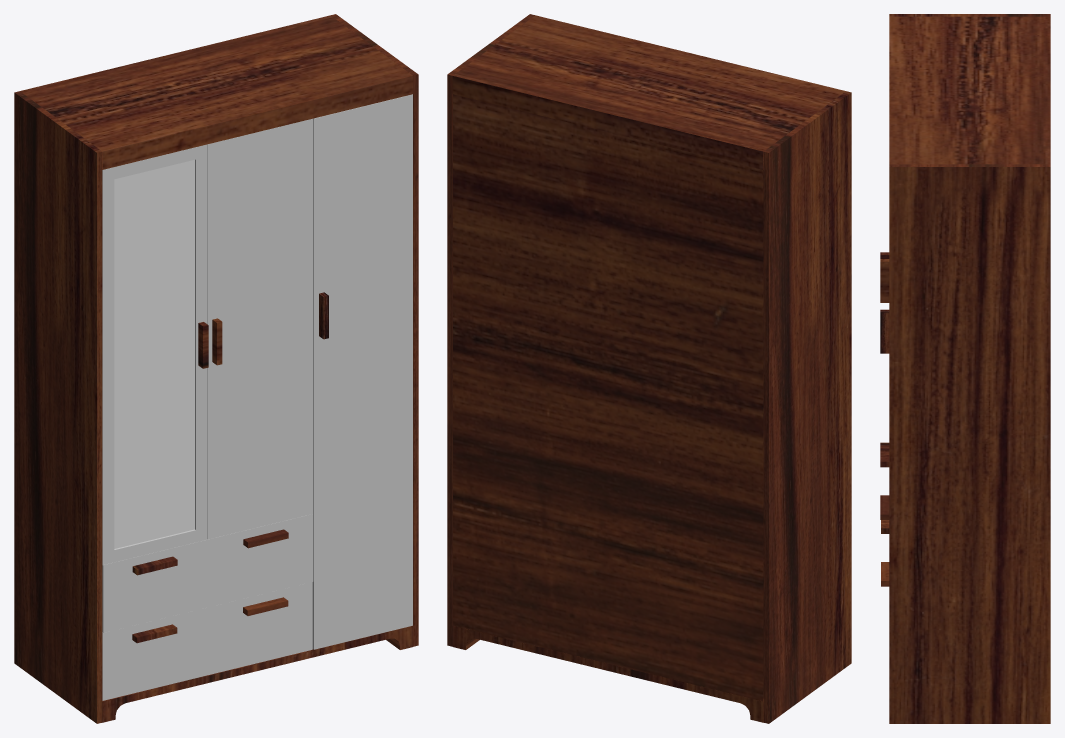
The model's file is wardorb_5.fbx.
The picture shows the model from 3 angles, left to right: view 1: azimuth 30°, elevation 25°; view 2: azimuth 150°, elevation 25°; view 3: azimuth 270°, elevation 25°; orthographic projection. The views are drawn at different scales.
Parts seen in each view (by area): view 1: Cube.018; view 2: Cube.018; view 3: Cube.018.
Boxes of the visible parts, x1,y1,x2,y2 form: Cube.018: (14, 14, 418, 723); Cube.018: (447, 14, 851, 723); Cube.018: (880, 14, 1050, 723).
Bounding box in the file's own units: 119 × 202 × 56.01.
3 materials, 1 textured.
